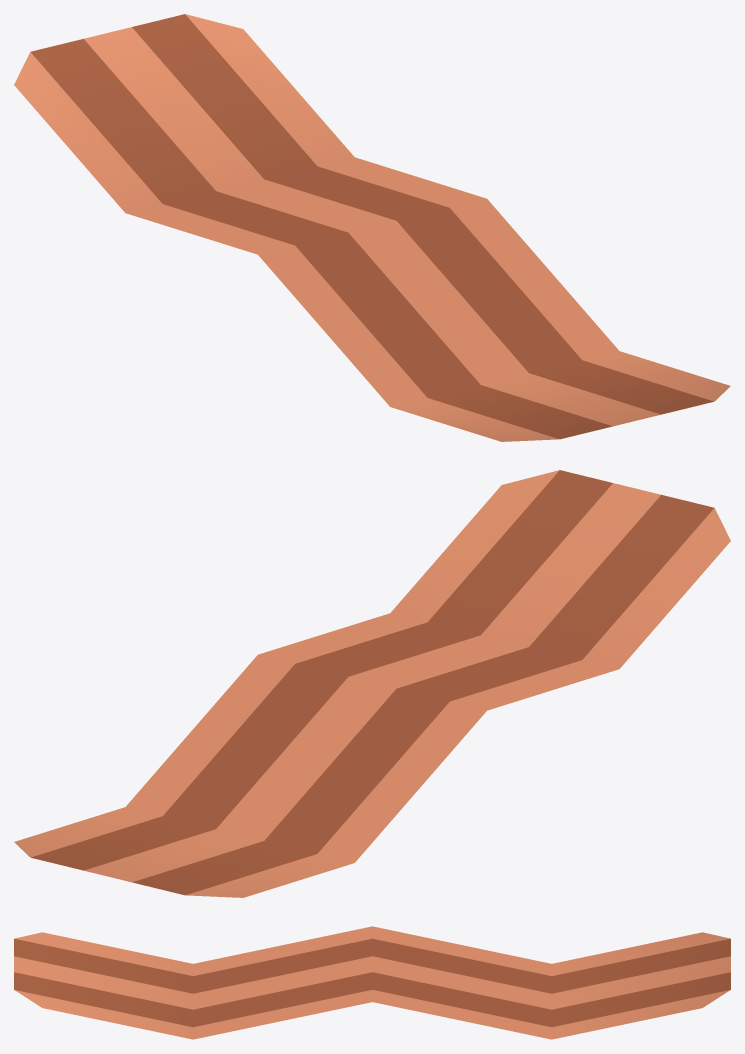
Rendered from bacon.b14a23d43b.glb.
3 renders of one model, top to bottom at view 1: azimuth 30°, elevation 25°; view 2: azimuth 150°, elevation 25°; view 3: azimuth 270°, elevation 25°, orthographic. The views are drawn at different scales.
Visible parts, largest first — view 1: bacon; view 2: bacon; view 3: bacon.
Boxes of the visible parts, left/top/right/bottom form: bacon: left=14, top=14, right=730, bottom=441; bacon: left=14, top=470, right=730, bottom=897; bacon: left=14, top=926, right=730, bottom=1039.
Bounding box in the file's own units: 0.13 × 0.03 × 0.52.
Materials: 1 (1 with a texture image).
